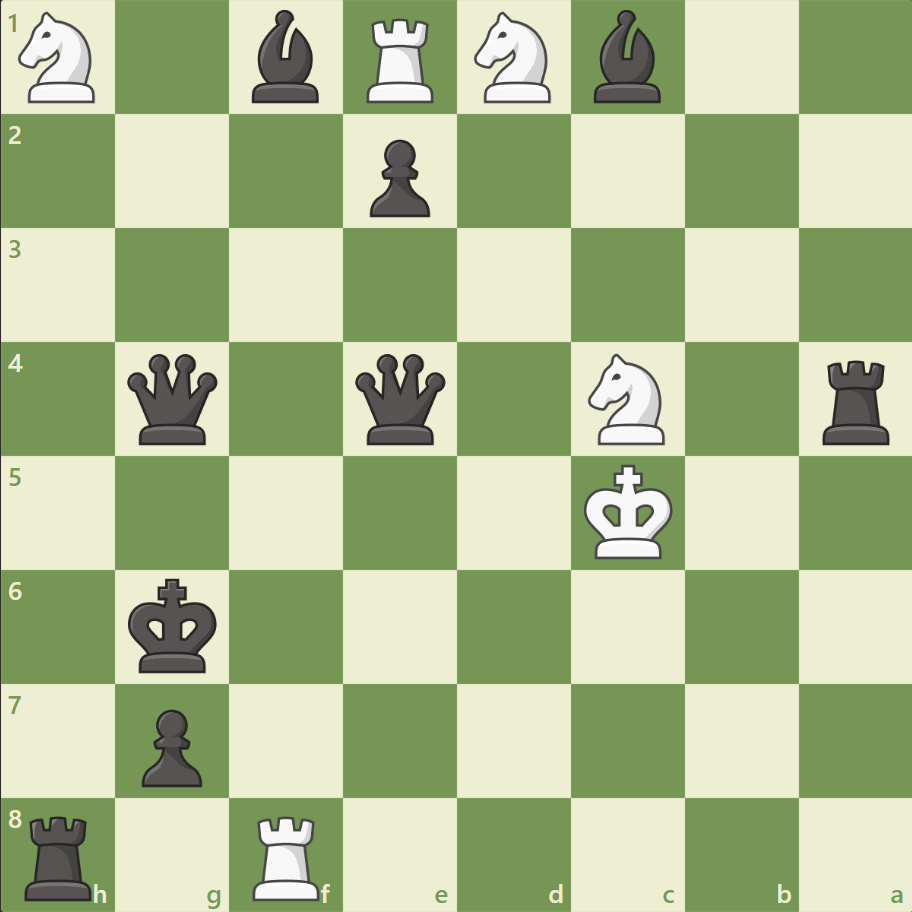K: (579, 458, 679, 566)
N: (465, 7, 562, 110), (11, 7, 108, 110), (579, 348, 676, 450)
R: (246, 806, 329, 904), (360, 12, 442, 109)
b: (585, 6, 669, 109), (244, 6, 328, 109)
k: (124, 571, 224, 679)
p: (133, 700, 208, 791), (361, 132, 435, 223)
q: (351, 349, 450, 449), (124, 349, 223, 449)
r: (19, 806, 102, 904), (814, 352, 897, 449)
